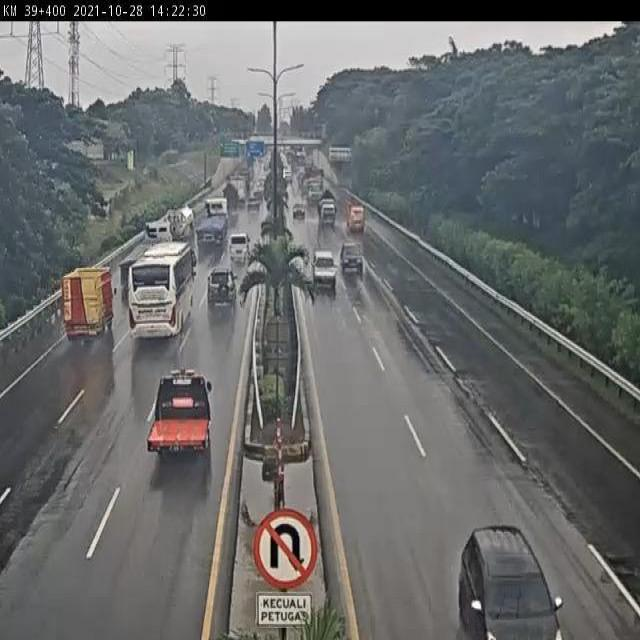bus-l-: (124, 240, 198, 340)
car: (462, 524, 565, 640), (311, 247, 337, 290), (206, 270, 237, 306), (340, 240, 364, 275), (229, 234, 251, 262), (291, 198, 307, 218)
truck-l-: (116, 220, 174, 276), (194, 195, 229, 249)
truck-m-: (158, 203, 194, 248)
truck-s-: (145, 370, 213, 454), (60, 264, 115, 339), (318, 188, 340, 232), (346, 193, 369, 235)
